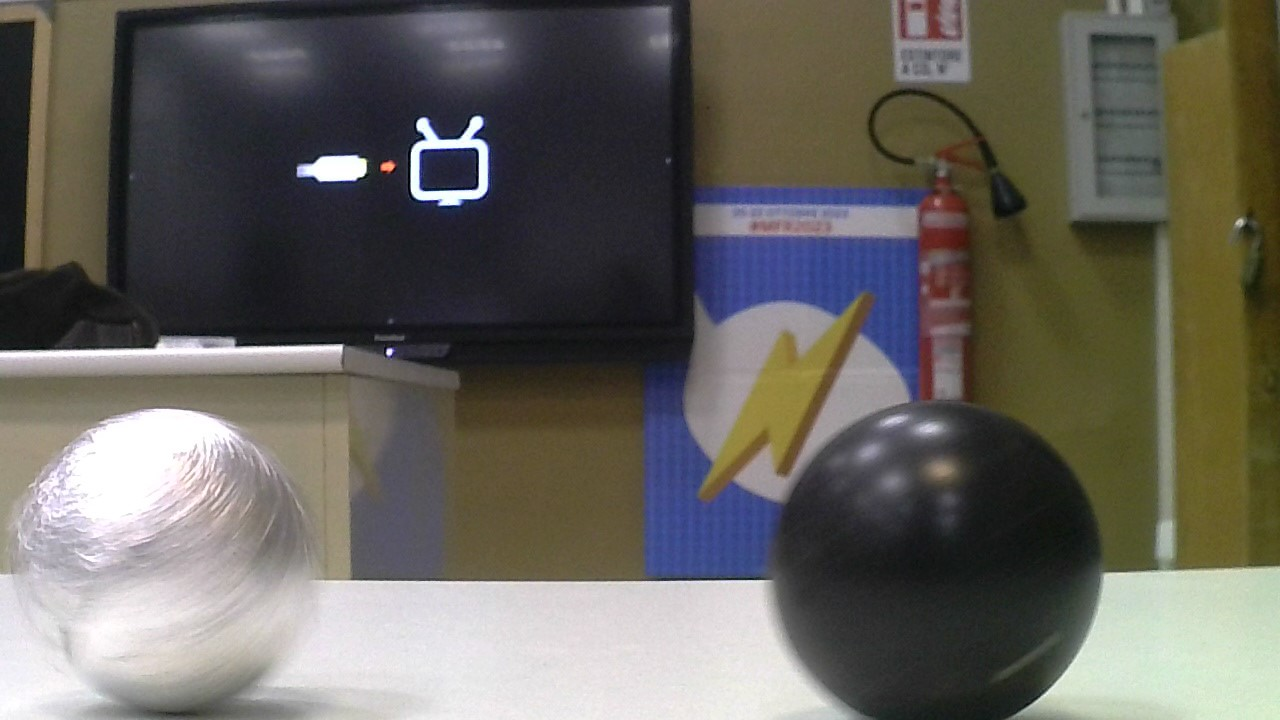black_ball: (765, 398, 1111, 720)
silver_ball: (1, 403, 329, 720)
